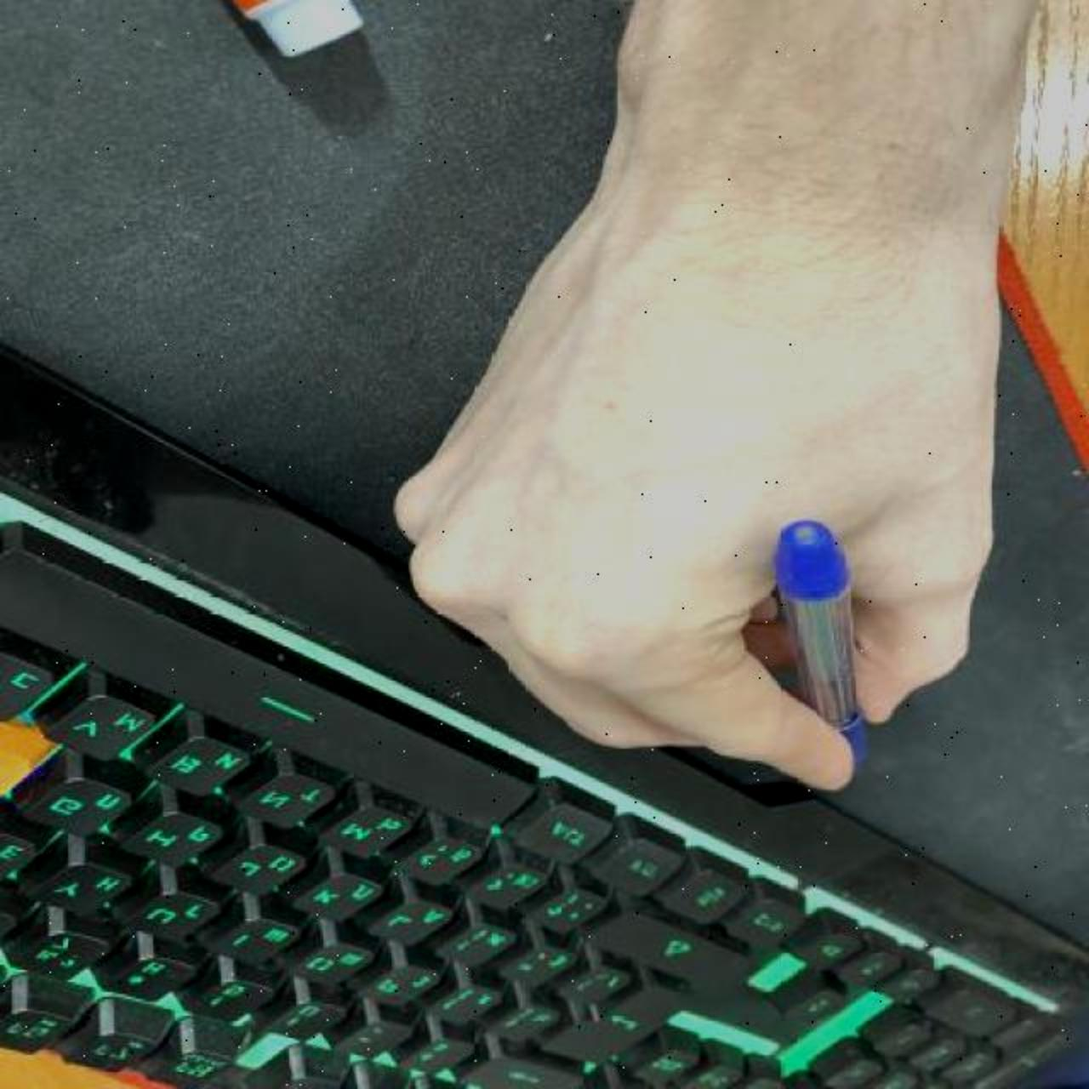pen: (773, 522, 869, 773)
